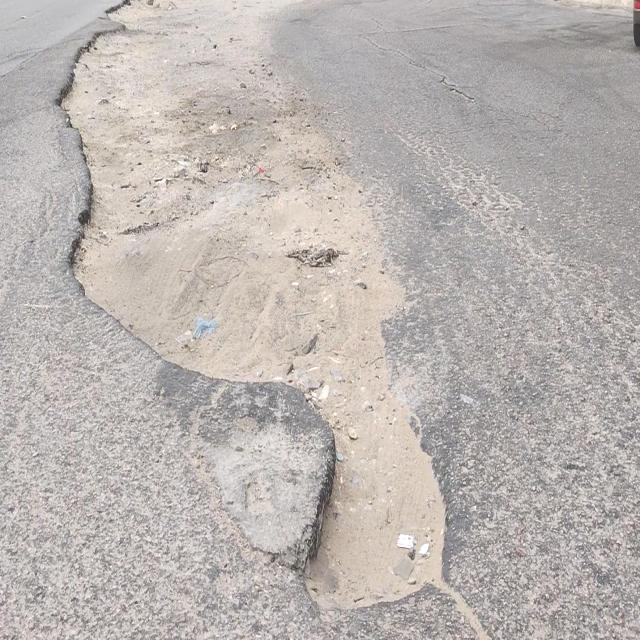Potholes: (290, 411, 451, 624), (61, 162, 149, 288), (54, 60, 116, 133), (88, 23, 132, 55)
